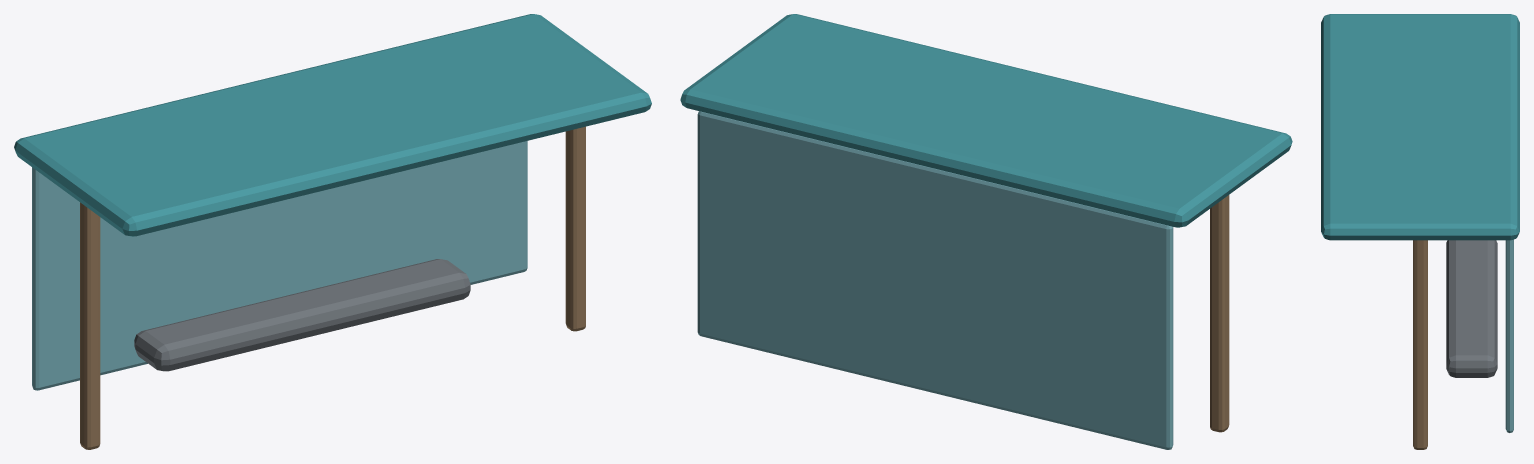
The model's file is shelter_transit_lod1_v2.glb.
3 views of the same model, side by side, from view 1: azimuth 30°, elevation 25°; view 2: azimuth 150°, elevation 25°; view 3: azimuth 270°, elevation 25° (orthographic). The views are drawn at different scales.
Visible parts, largest first — view 1: LOD1_SHELTER_TRANSIT_Roof, LOD1_SHELTER_TRANSIT_Back, LOD1_SHELTER_TRANSIT_Bench, LOD1_SHELTER_TRANSIT_Post, LOD1_SHELTER_TRANSIT_Post.001; view 2: LOD1_SHELTER_TRANSIT_Back, LOD1_SHELTER_TRANSIT_Roof, LOD1_SHELTER_TRANSIT_Post; view 3: LOD1_SHELTER_TRANSIT_Roof, LOD1_SHELTER_TRANSIT_Bench, LOD1_SHELTER_TRANSIT_Post.001, LOD1_SHELTER_TRANSIT_Back.
Part boxes in pixels (x1,y1,x2,y2): LOD1_SHELTER_TRANSIT_Roof: (14, 14, 651, 236); LOD1_SHELTER_TRANSIT_Back: (32, 141, 527, 390); LOD1_SHELTER_TRANSIT_Bench: (134, 259, 470, 371); LOD1_SHELTER_TRANSIT_Post: (80, 202, 100, 449); LOD1_SHELTER_TRANSIT_Post.001: (565, 126, 585, 331); LOD1_SHELTER_TRANSIT_Back: (697, 111, 1173, 449); LOD1_SHELTER_TRANSIT_Roof: (680, 14, 1292, 227); LOD1_SHELTER_TRANSIT_Post: (1210, 195, 1229, 432); LOD1_SHELTER_TRANSIT_Roof: (1321, 14, 1519, 240); LOD1_SHELTER_TRANSIT_Bench: (1446, 240, 1497, 377); LOD1_SHELTER_TRANSIT_Post.001: (1413, 240, 1427, 449); LOD1_SHELTER_TRANSIT_Back: (1505, 239, 1513, 432).
Size of what is drawn, in the model's own units: 6.2 by 3.06 by 2.4.
